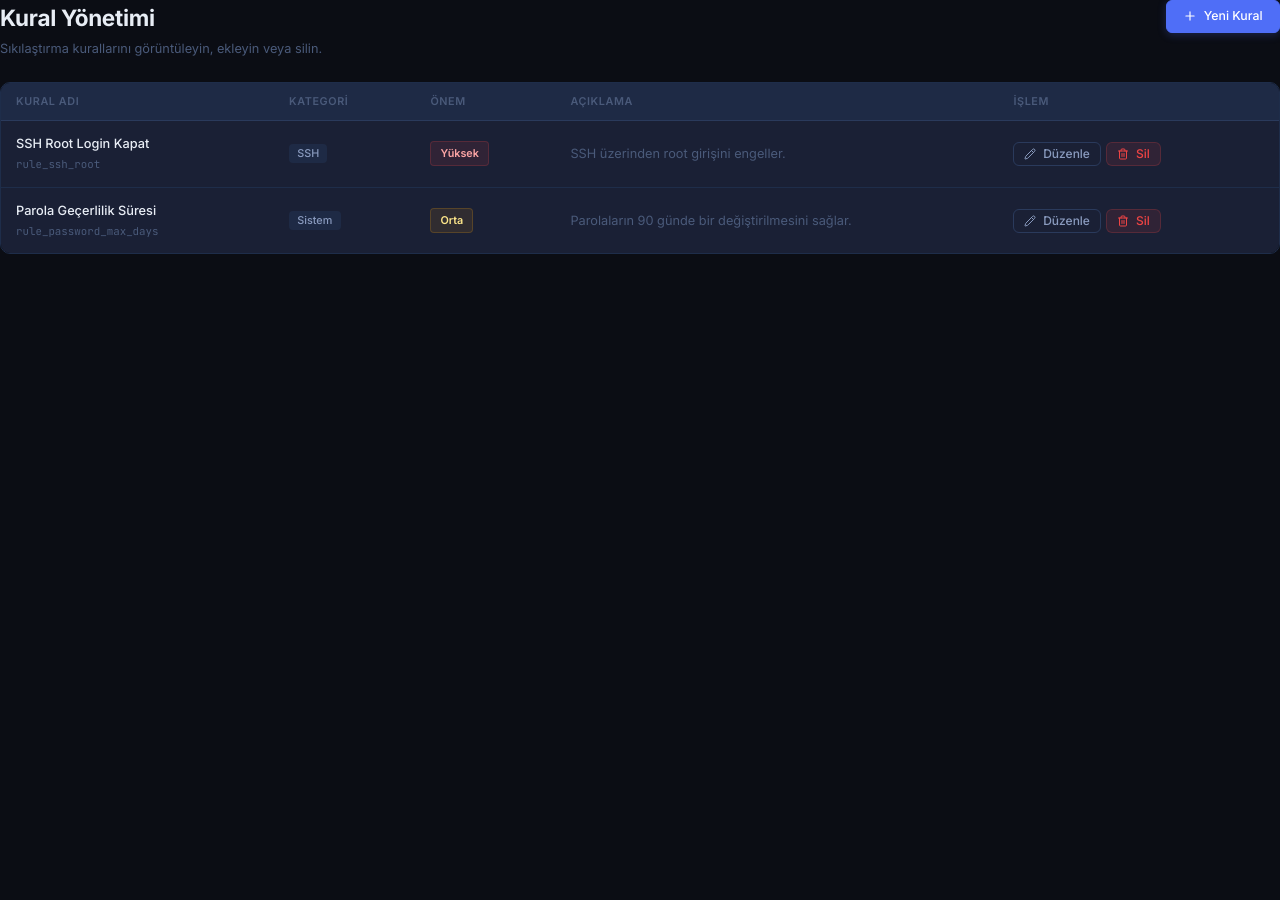
Scenario: RuleManager Bileşeni › Düzenle formu kural verisiyle açıyor
Expected: the text "SSH Root Login Kapat" is shown, 16,136 -> 149,151
Click the button "Düzenle" in the row of "SSH Root Login Kapat" at (1057, 154), box 1013,142 -> 1101,166
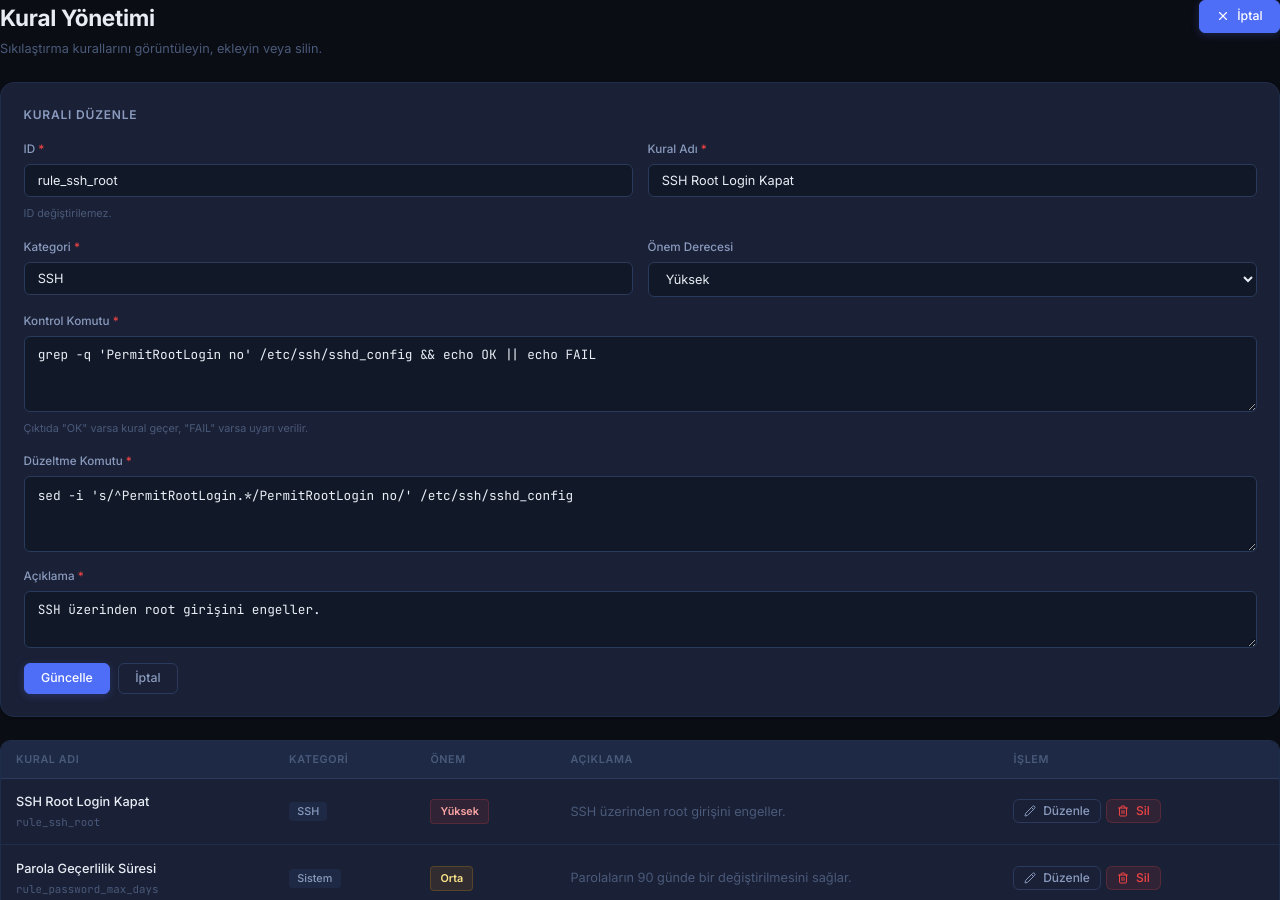
Expected: the text "Kuralı Düzenle" is shown, 24,107 -> 137,122
Expected: the 2nd field showing "SSH Root Login Kapat" is shown, 648,164 -> 1256,197
Expected: the 1st field showing "rule_ssh_root" is shown, 24,164 -> 632,197
